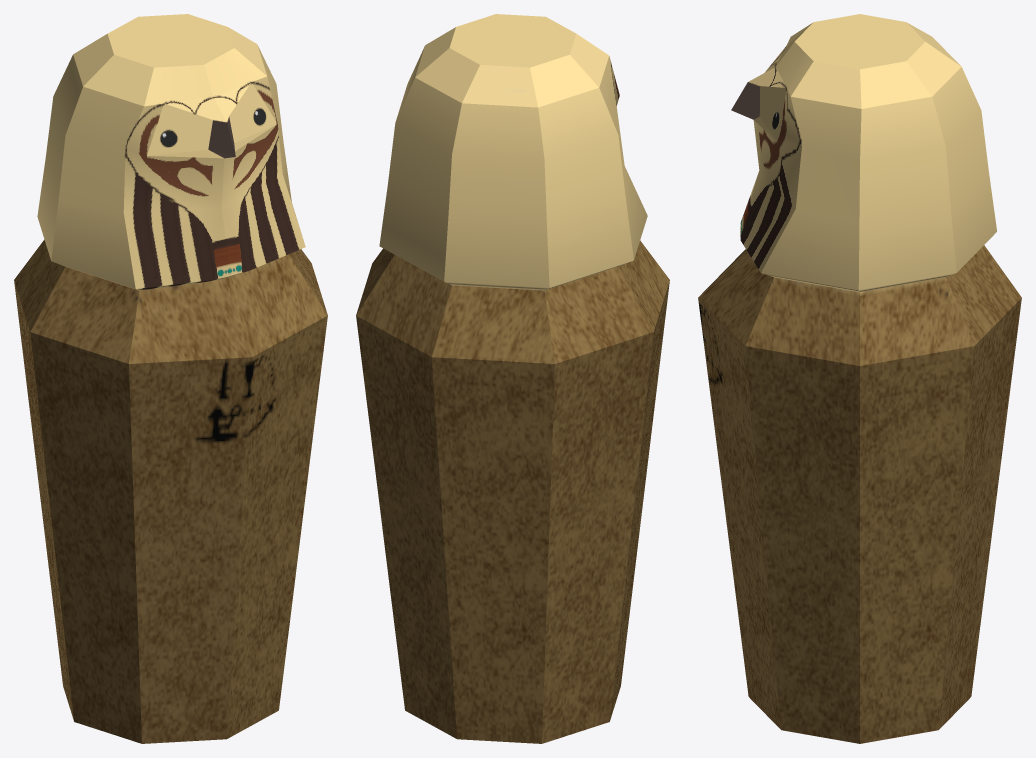
Rendered from canopicjar_horus_texture_mar12.gltf.
3 views of the same model, side by side, from view 1: azimuth 30°, elevation 25°; view 2: azimuth 150°, elevation 25°; view 3: azimuth 270°, elevation 25° (orthographic).
Visible parts, largest first — view 1: canopicjar_horus CANOPIC_JARS; view 2: canopicjar_horus CANOPIC_JARS; view 3: canopicjar_horus CANOPIC_JARS.
Part boxes in pixels (left/top/right/bottom): canopicjar_horus CANOPIC_JARS: left=14, top=14, right=327, bottom=743; canopicjar_horus CANOPIC_JARS: left=356, top=14, right=669, bottom=743; canopicjar_horus CANOPIC_JARS: left=698, top=14, right=1021, bottom=743.
Size of the model in its own units: 2.91 by 6.49 by 2.91.
1 material, 1 textured.
